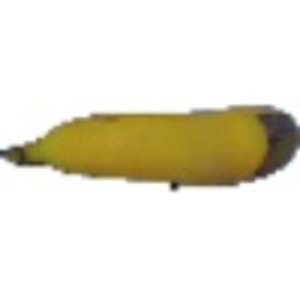banana: (3, 102, 297, 193)
